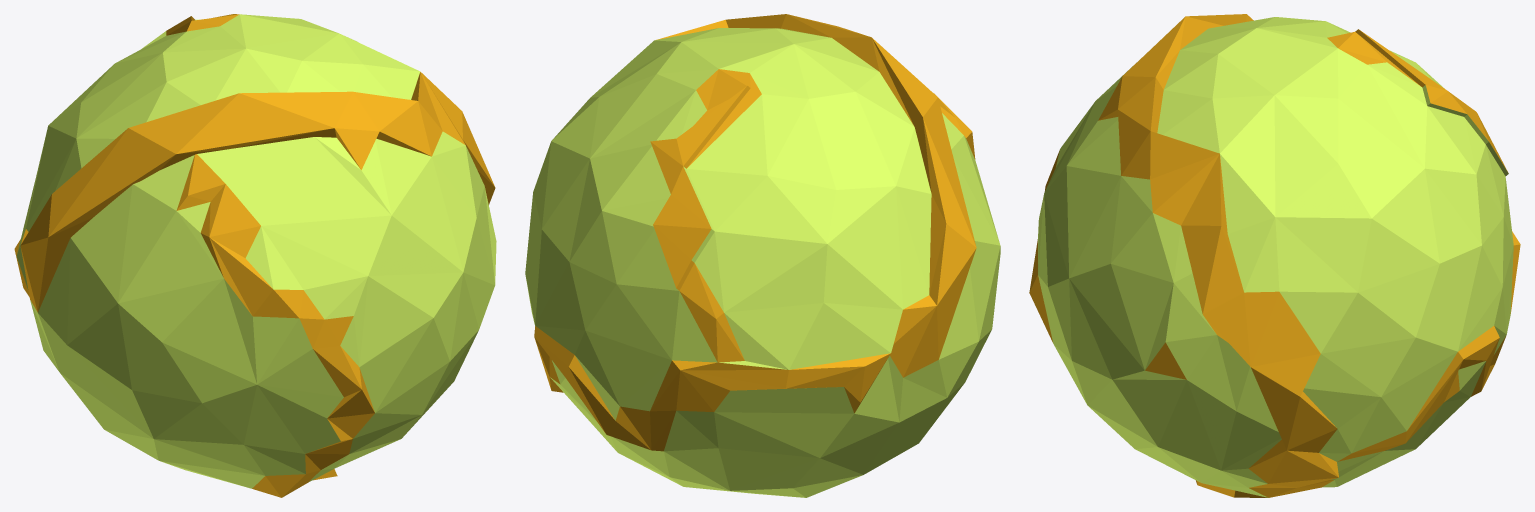
Rendered from SUN.fbx.
The picture shows the model from 3 angles, left to right: view 1: azimuth 30°, elevation 25°; view 2: azimuth 150°, elevation 25°; view 3: azimuth 270°, elevation 25°; orthographic projection.
Visible parts, largest first — view 1: Icosphere; view 2: Icosphere; view 3: Icosphere.
Part boxes in pixels (x1,y1,x2,y2): Icosphere: [14, 14, 496, 497]; Icosphere: [525, 14, 1000, 497]; Icosphere: [1029, 14, 1520, 497].
Bounding box in the file's own units: 382 × 375 × 377.
